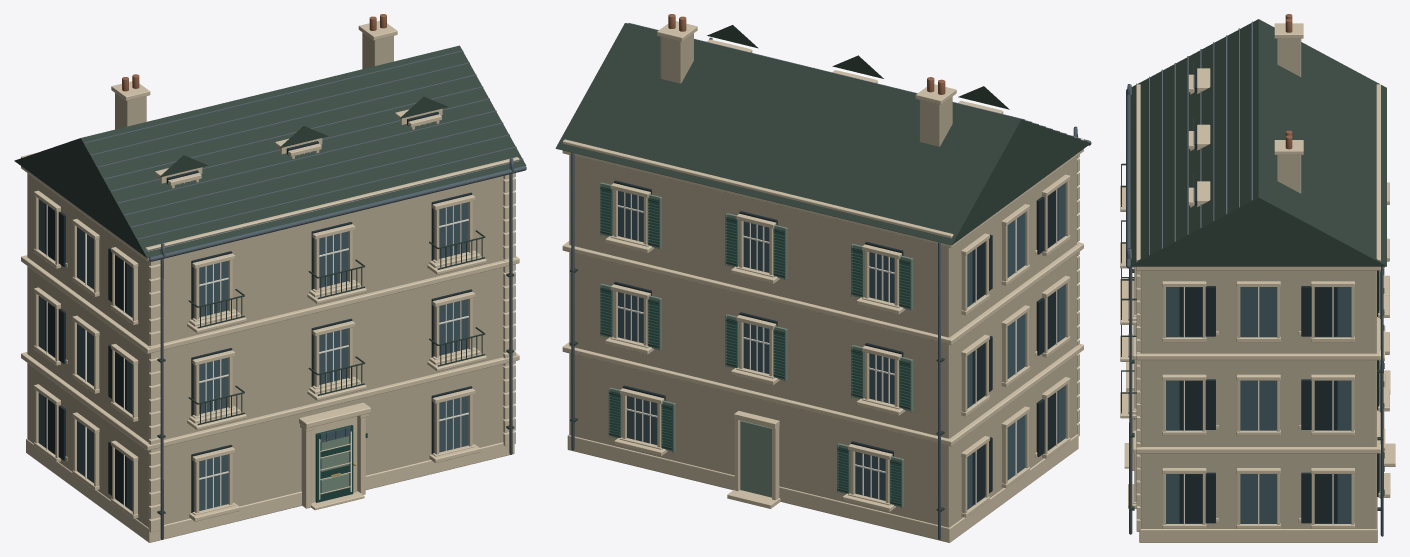
Rendered from corner_apartments.glb.
3 views of the same model, side by side, from view 1: azimuth 30°, elevation 25°; view 2: azimuth 150°, elevation 25°; view 3: azimuth 270°, elevation 25° (orthographic). The views are drawn at different scales.
Parts seen in each view (by area): view 1: Building_masonry, Pitched_slate_roof, Stone_plinth, Continuous_cornice.001, Continuous_cornice, Zinc_gutter, Continuous_cornice.003, Window_glass.001, Window_glass, Window_glass.002, Window_glass.012, Window_glass.004 (+29 smaller); view 2: Building_masonry, Pitched_slate_roof, Stone_plinth, Continuous_cornice, Continuous_cornice.001, Garden_entry_door, Continuous_cornice.003, Continuous_cornice.002, Chimney_stack.001, Chimney_stack, Window_glass.014, Window_glass.015 (+17 smaller); view 3: Pitched_slate_roof, Building_masonry, Stone_plinth, Continuous_cornice.001, Continuous_cornice, Side_glass.013, Side_glass.016, Side_glass.010, Continuous_cornice.003, Window_recess.022, Window_recess.026, Window_recess.024 (+24 smaller).
Part boxes in pixels (x1,y1,x2,y2): Building_masonry: (27, 173, 504, 527); Pitched_slate_roof: (14, 45, 526, 258); Stone_plinth: (26, 438, 514, 542); Continuous_cornice.001: (21, 255, 519, 353); Continuous_cornice: (21, 352, 519, 450); Zinc_gutter: (148, 166, 526, 261); Continuous_cornice.003: (21, 153, 519, 251); Window_glass.001: (439, 396, 468, 452); Window_glass: (199, 454, 228, 510); Window_glass.002: (199, 357, 228, 414); Window_glass.012: (439, 202, 468, 258); Window_glass.004: (319, 328, 348, 384); Building_masonry: (569, 155, 1076, 527); Pitched_slate_roof: (555, 23, 1090, 245); Stone_plinth: (567, 434, 1078, 542); Continuous_cornice: (562, 342, 1083, 446); Continuous_cornice.001: (562, 241, 1083, 345); Garden_entry_door: (740, 420, 771, 497); Continuous_cornice.003: (562, 136, 1083, 238); Continuous_cornice.002: (562, 149, 1083, 247); Chimney_stack.001: (660, 33, 693, 83); Chimney_stack: (919, 96, 952, 146); Window_glass.014: (627, 396, 657, 444); Window_glass.015: (855, 451, 885, 500); Pitched_slate_roof: (1130, 19, 1386, 266); Building_masonry: (1140, 270, 1376, 528); Stone_plinth: (1139, 497, 1377, 542); Continuous_cornice.001: (1136, 317, 1380, 360); Continuous_cornice: (1136, 410, 1380, 453); Side_glass.013: (1240, 380, 1276, 430); Side_glass.016: (1240, 287, 1276, 337); Side_glass.010: (1240, 474, 1276, 523); Continuous_cornice.003: (1136, 84, 1380, 261); Window_recess.022: (1301, 472, 1337, 523); Window_recess.026: (1301, 286, 1337, 336); Window_recess.024: (1301, 379, 1337, 429).
Size of the model in its own units: 12.5 by 12.45 by 8.16.
